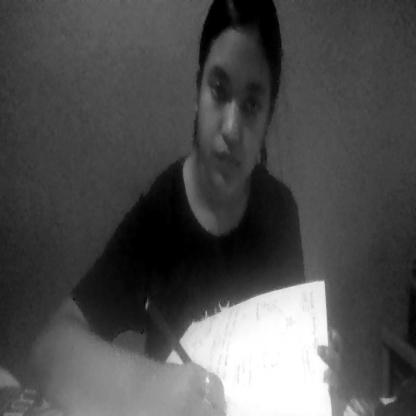Normal: (193, 9, 280, 196)
